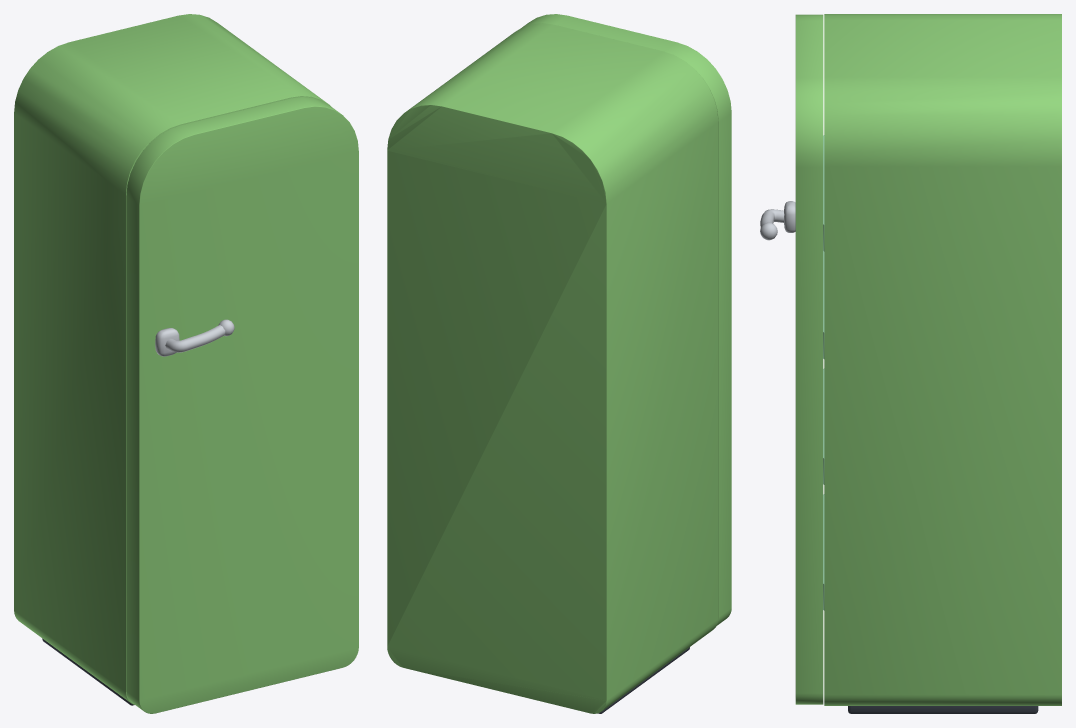
Rendered from geladeira_retro_uma_porta_verde.glb.
The picture shows the model from 3 angles, left to right: view 1: azimuth 30°, elevation 25°; view 2: azimuth 150°, elevation 25°; view 3: azimuth 270°, elevation 25°; orthographic projection. The views are drawn at different scales.
Parts seen in each view (by area): view 1: porta_geladeira, geladeira_retro_uma_porta_verde; view 2: geladeira_retro_uma_porta_verde, porta_geladeira; view 3: geladeira_retro_uma_porta_verde, porta_geladeira.
Part boxes in pixels (box(x1,y1,x2,y2)): porta_geladeira: box(126, 97, 358, 713); geladeira_retro_uma_porta_verde: box(14, 14, 331, 705); geladeira_retro_uma_porta_verde: box(387, 23, 718, 713); porta_geladeira: box(522, 14, 731, 625); geladeira_retro_uma_porta_verde: box(824, 14, 1061, 713); porta_geladeira: box(760, 14, 824, 704).
Size of the model in its own units: 0.68 by 1.72 by 0.762.
Materials: 2 (1 with a texture image).
